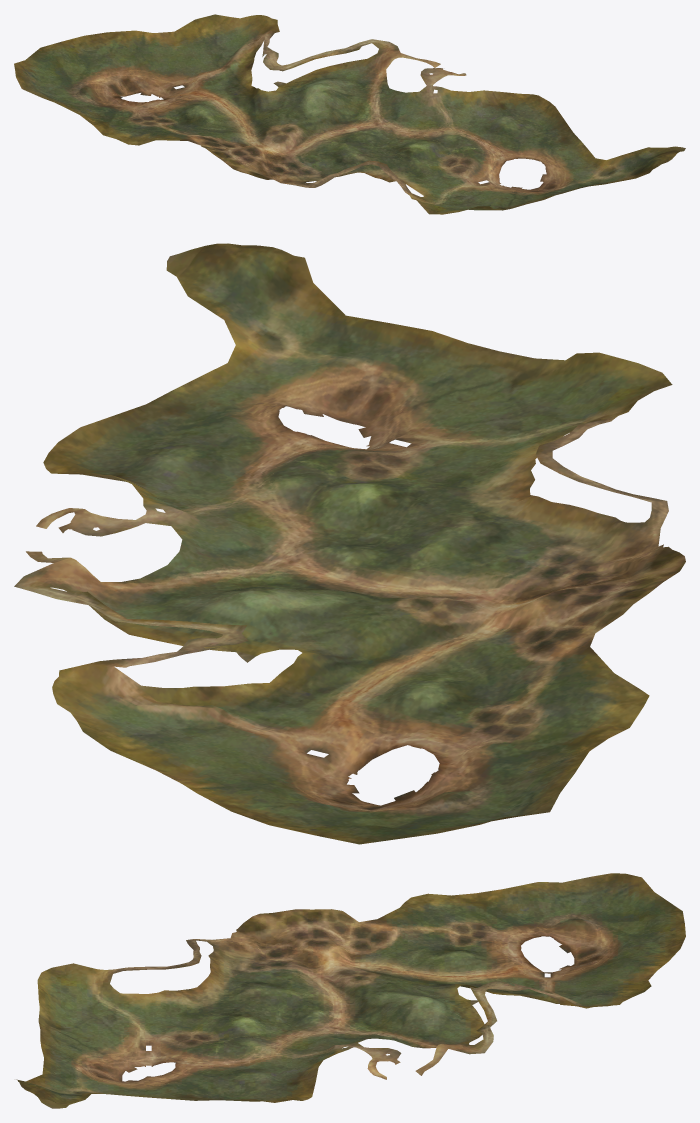
The model's file is map2f.glb.
3 views of the same model, one above another, from view 1: azimuth 30°, elevation 25°; view 2: azimuth 150°, elevation 25°; view 3: azimuth 270°, elevation 25° (orthographic). The views are drawn at different scales.
Parts seen in each view (by area): view 1: Object_9; view 2: Object_9; view 3: Object_9.
Boxes of the visible parts, <box> form: Object_9: <box>14,14,685,214</box>; Object_9: <box>14,243,685,844</box>; Object_9: <box>16,873,685,1108</box>.
Bounding box in the file's own units: 138 × 11.73 × 163.
1 material, 1 textured.
